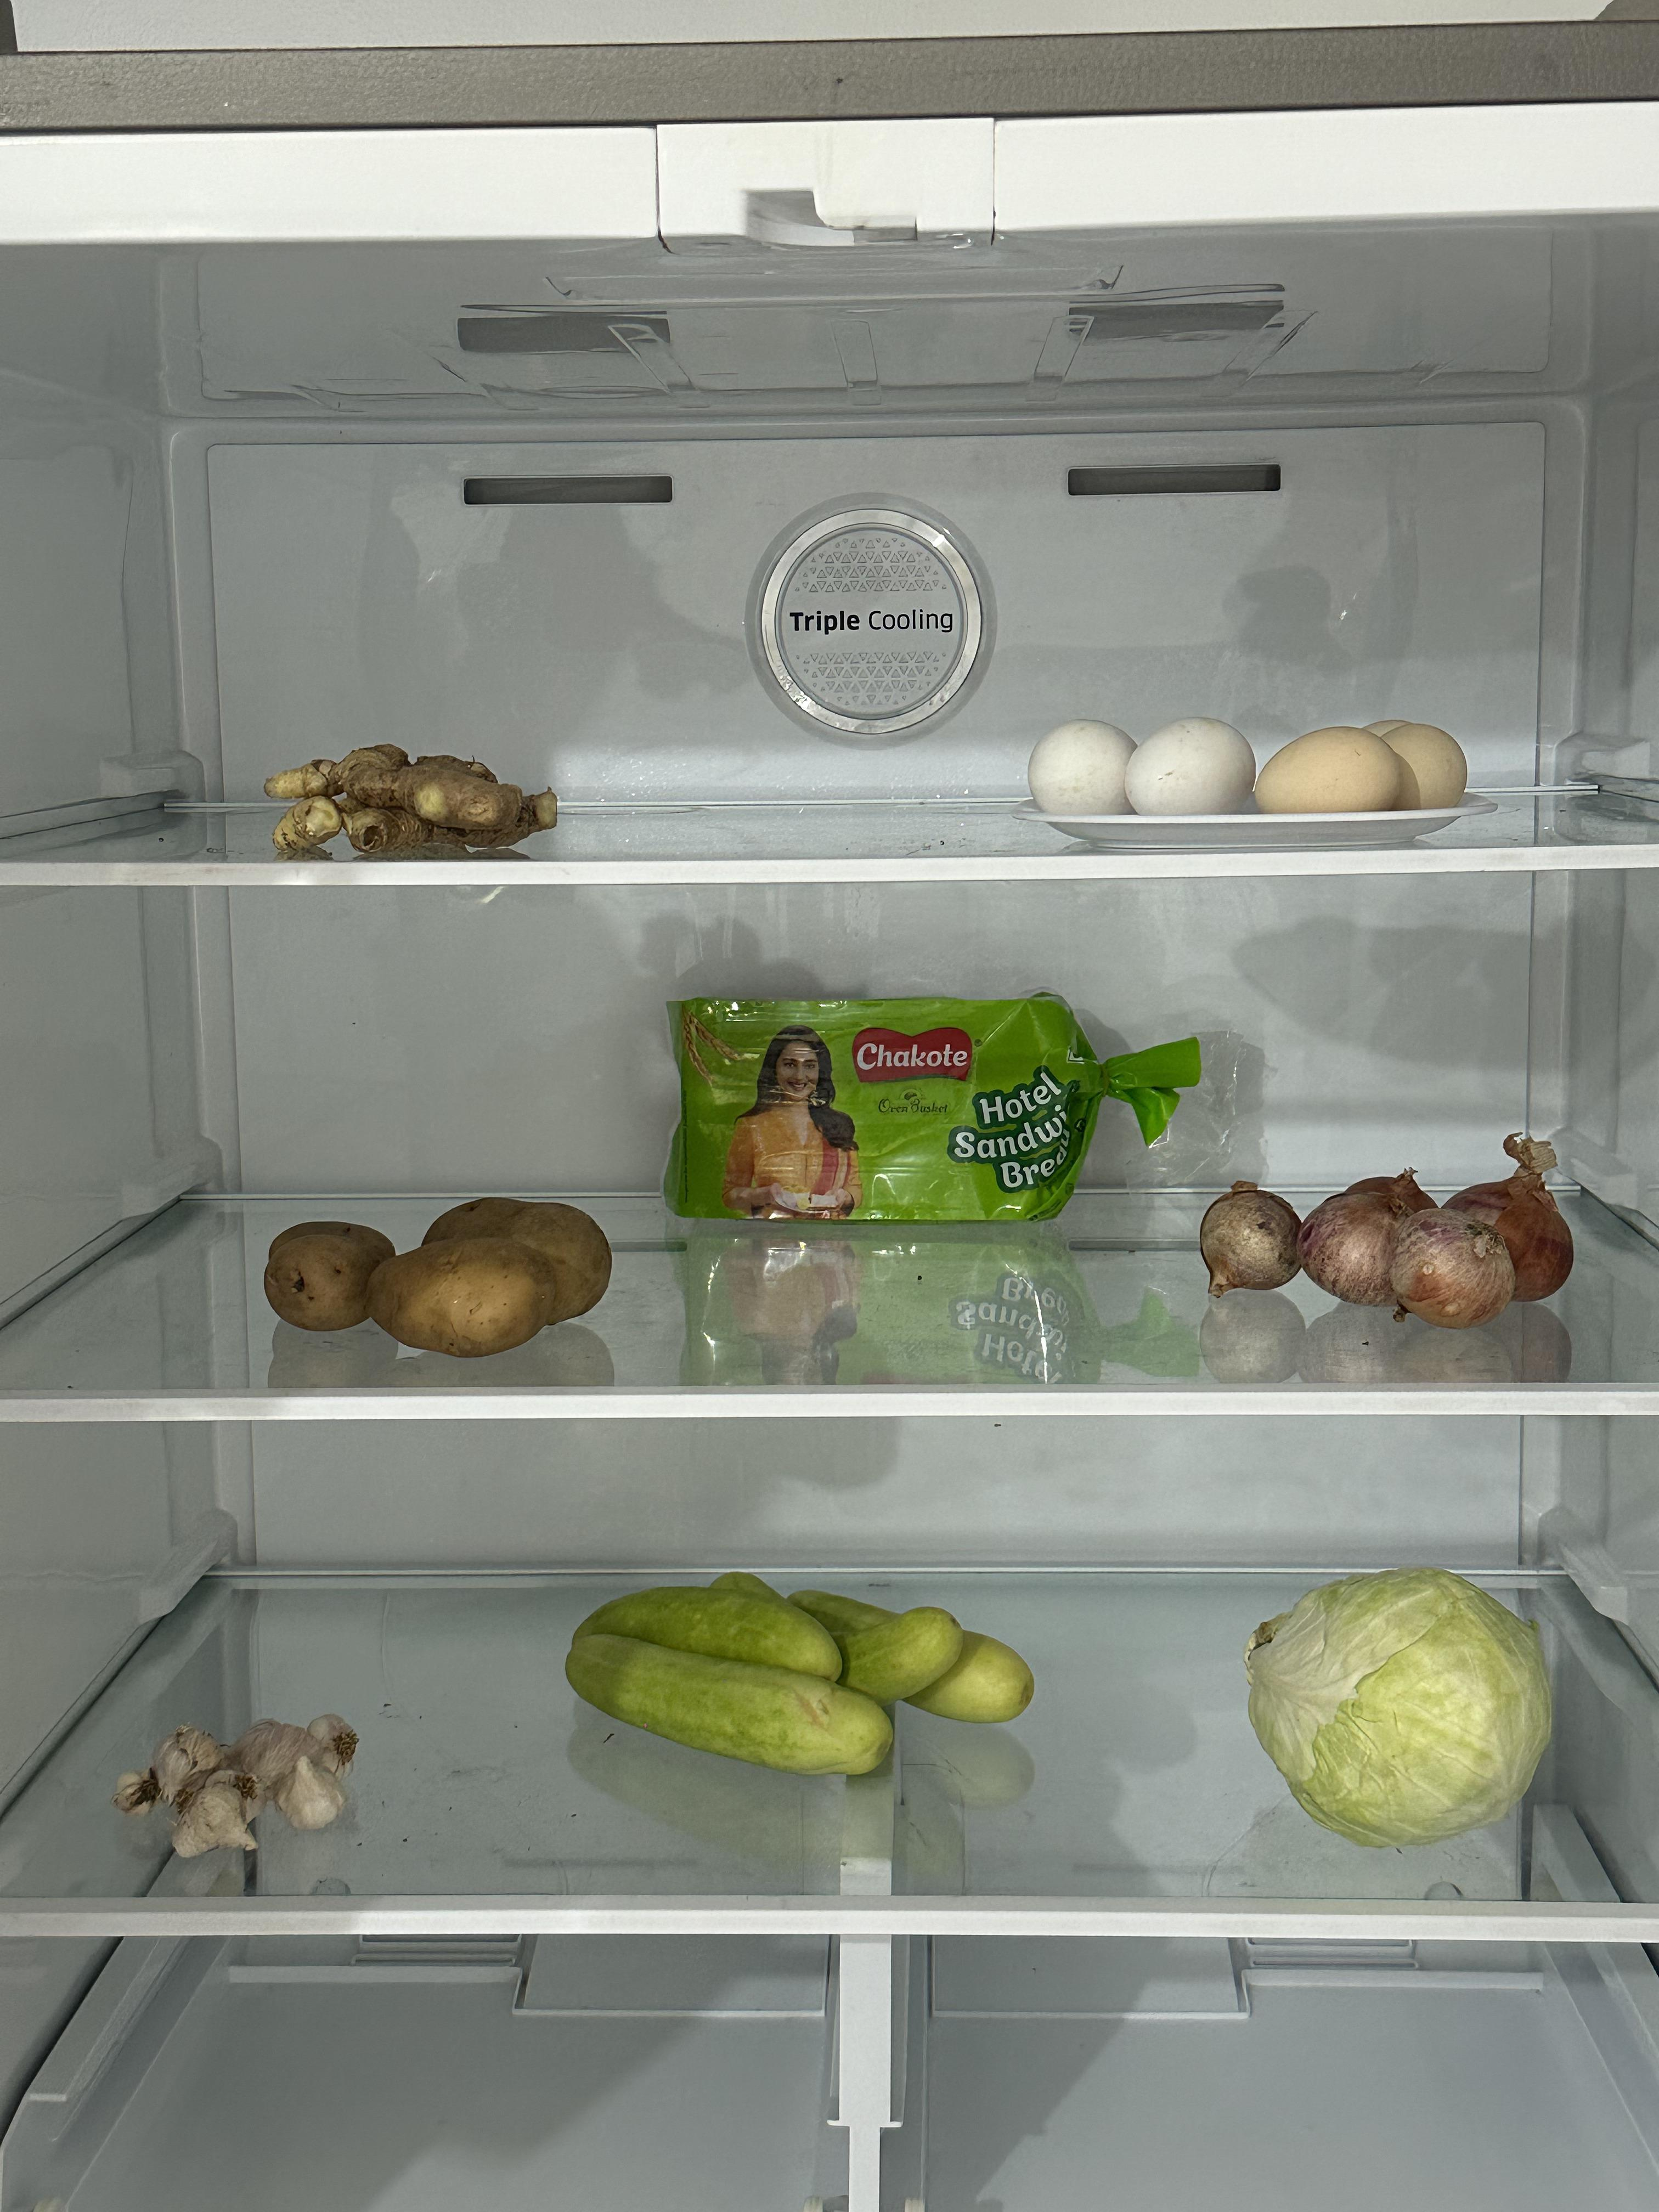bread: (653, 961, 1126, 1242)
cabbage: (1236, 1559, 1558, 1838)
cucumber: (556, 1548, 1039, 1785)
egg: (1011, 698, 1453, 843)
garlic: (112, 1707, 371, 1869)
ginger: (277, 730, 559, 855)
onion: (1192, 1137, 1581, 1338)
potato: (260, 1181, 608, 1353)
